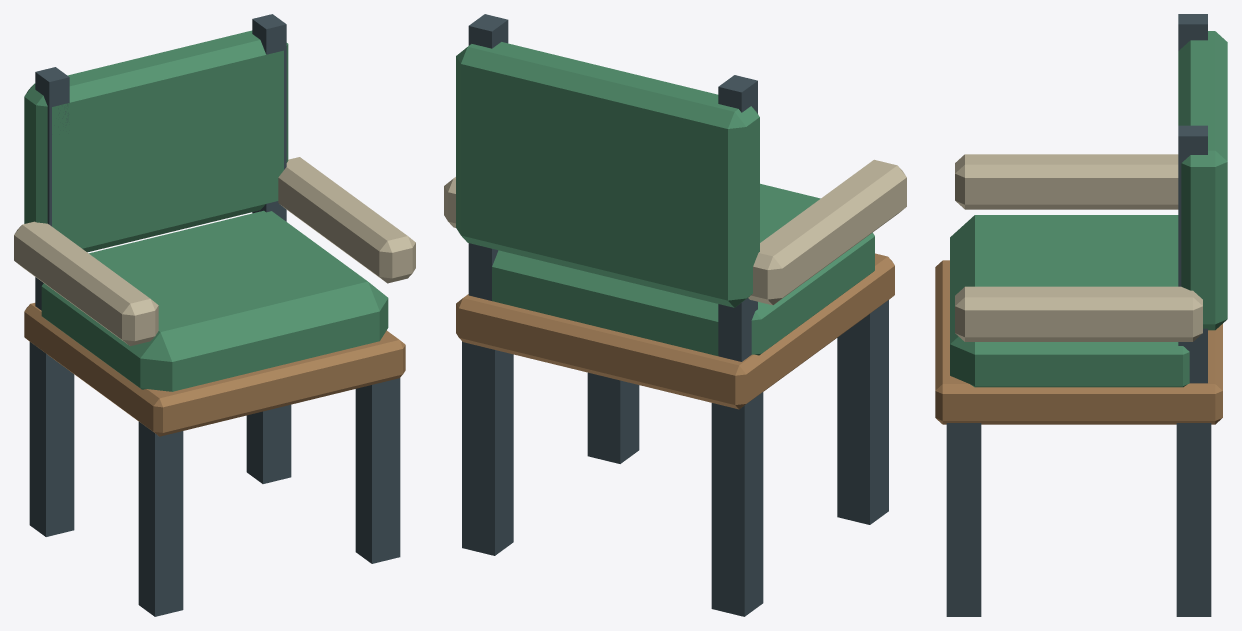
The model's file is armchair.glb.
3 views of the same model, side by side, from view 1: azimuth 30°, elevation 25°; view 2: azimuth 150°, elevation 25°; view 3: azimuth 270°, elevation 25° (orthographic). The views are drawn at different scales.
Parts seen in each view (by area): view 1: armchair; view 2: armchair; view 3: armchair.
Part boxes in pixels (x1,y1,x2,y2): armchair: (14,14,415,616); armchair: (444,14,906,616); armchair: (935,14,1227,616).
Size of the model in its own units: 0.7224 by 1.06 by 0.59.
